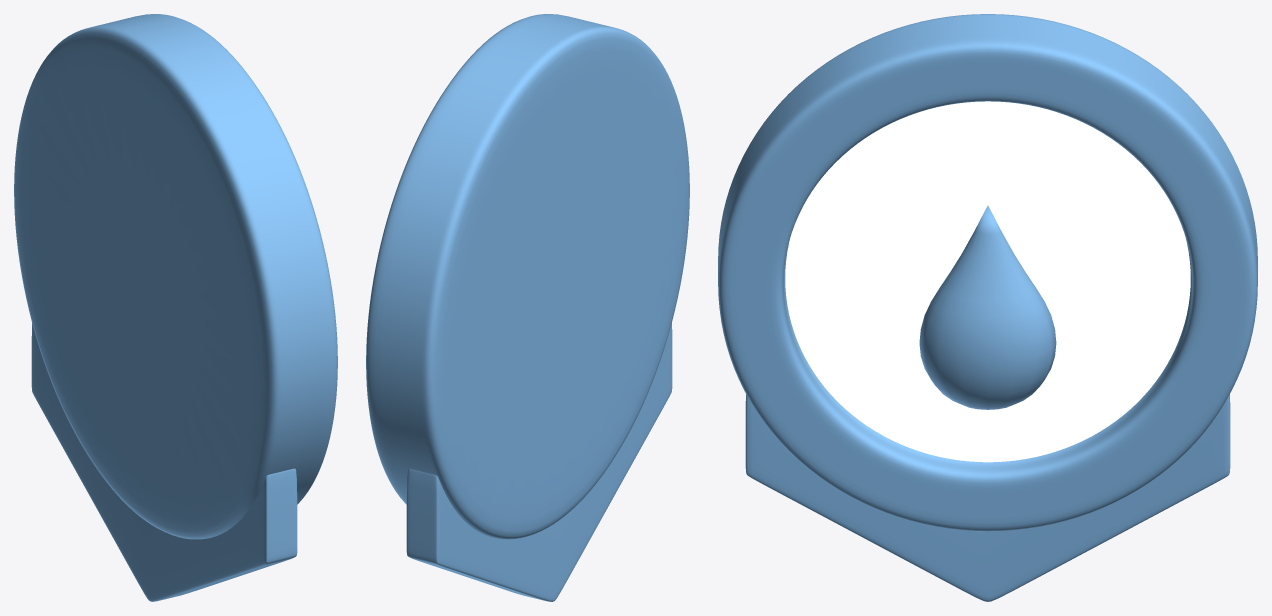
Rendered from waterbender_2.glb.
3 renders of one model, left to right at view 1: azimuth 30°, elevation 25°; view 2: azimuth 150°, elevation 25°; view 3: azimuth 270°, elevation 25°, orthographic. The views are drawn at different scales.
Parts seen in each view (by area): view 1: rarity1; view 2: rarity1; view 3: rarity1.
Part boxes in pixels (left/top/right/bottom): rarity1: left=14, top=14, right=337, bottom=601; rarity1: left=366, top=14, right=689, bottom=601; rarity1: left=718, top=14, right=1257, bottom=601.
Size of the model in its own units: 0.3593 by 1.17 by 0.9999.
